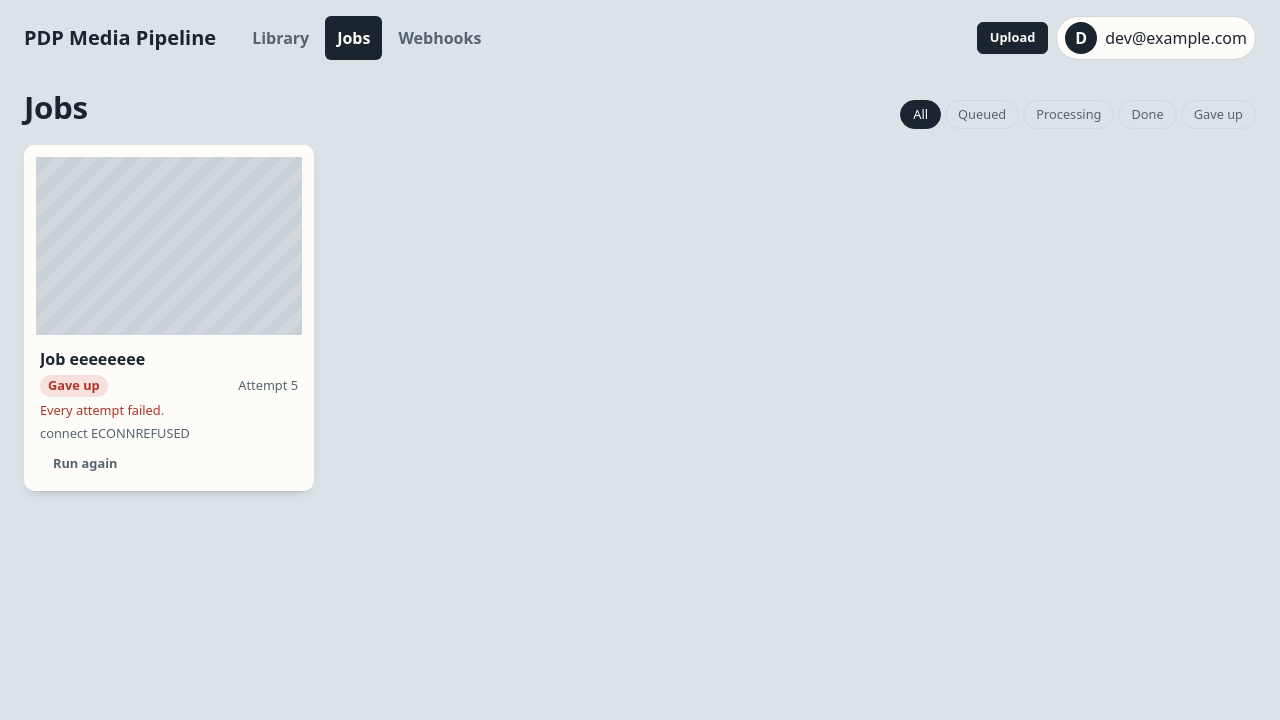
jobs sheet › runs a dead job again and shows it queued
Expected: the text "Every attempt failed." is shown, [40,401,164,419]
Click the button "Run again" at (85, 463), box [40,447,130,479]
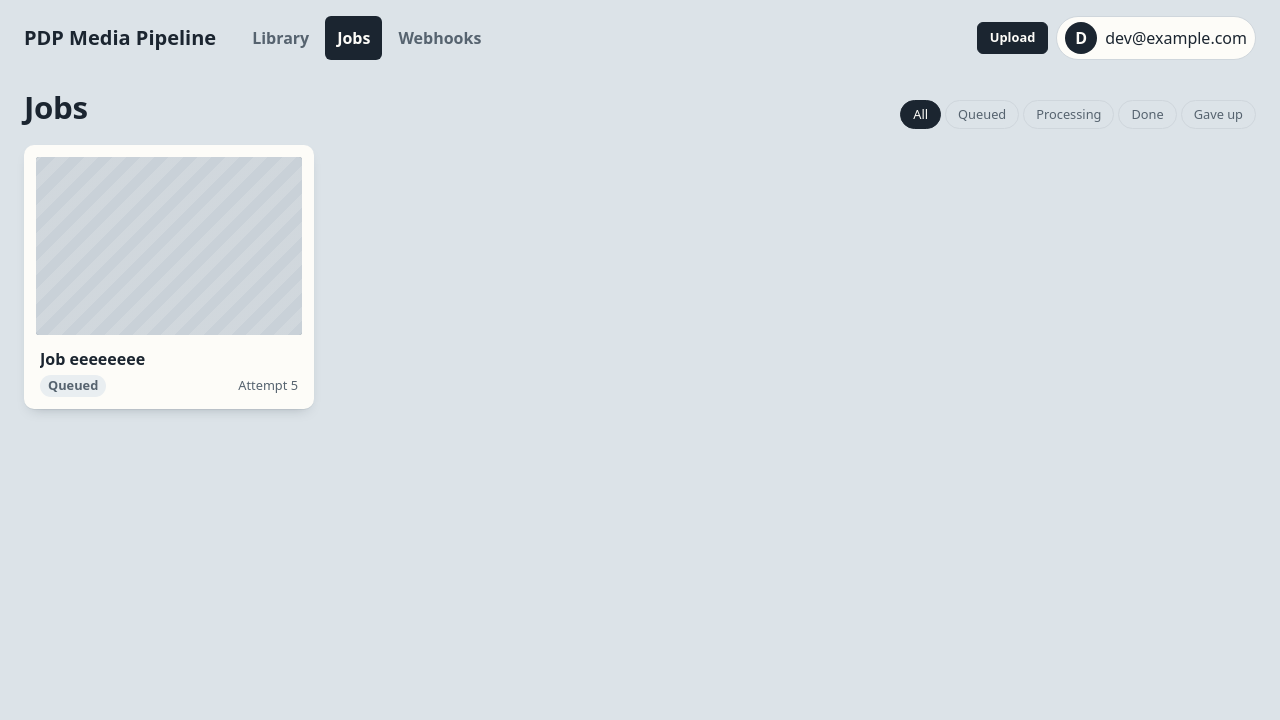
Expected: the text "Queued" is shown, [40,374,106,397]
Expected: the button "Run again" is gone
